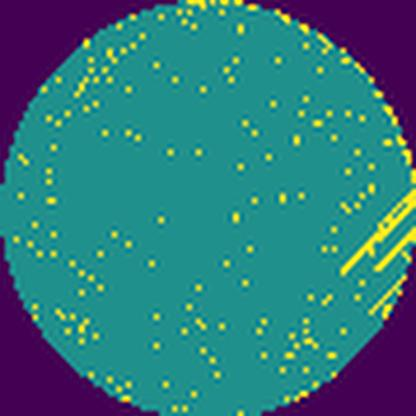Scratch: (338, 189, 416, 280), (373, 223, 416, 275), (364, 272, 408, 320)
